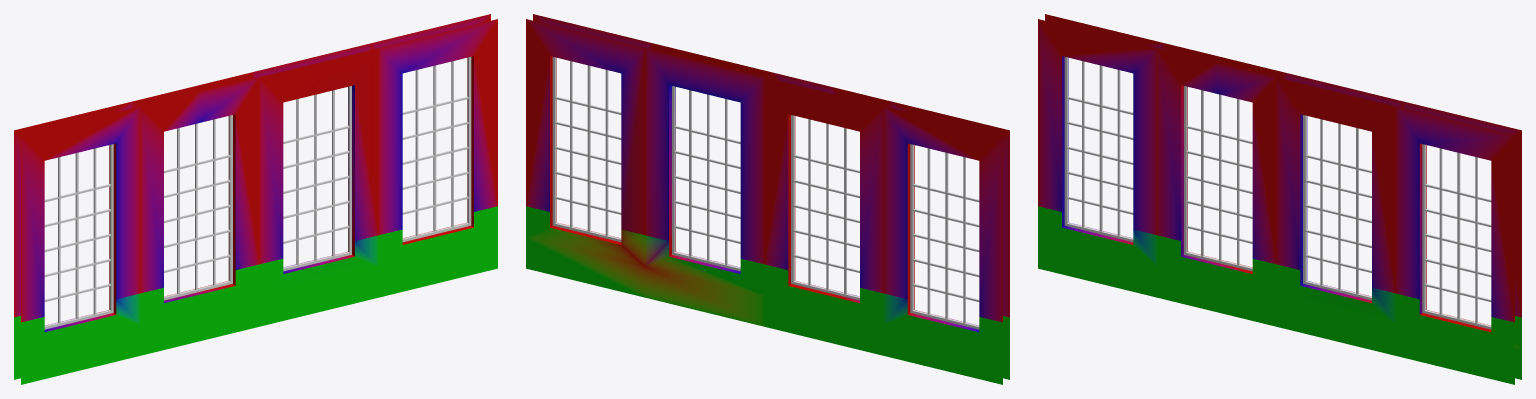
The model's file is WindowA_A_16x8.fbx.
The picture shows the model from 3 angles, left to right: view 1: azimuth 30°, elevation 25°; view 2: azimuth 150°, elevation 25°; view 3: azimuth 330°, elevation 25°; orthographic projection.
Visible parts, largest first — view 1: Plane.001, Cube.015; view 2: Plane.001, Cube.015; view 3: Plane.001, Cube.015.
Part boxes in pixels (bbox=[...]): Plane.001: bbox=[14, 14, 497, 384]; Cube.015: bbox=[44, 57, 471, 329]; Plane.001: bbox=[526, 14, 1009, 384]; Cube.015: bbox=[552, 57, 979, 329]; Plane.001: bbox=[1038, 14, 1521, 384]; Cube.015: bbox=[1064, 57, 1491, 329].
Size of the model in its own units: 1600 by 800 by 40.
